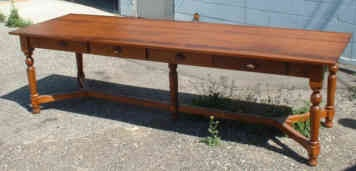obstacle: (10, 14, 350, 165)
